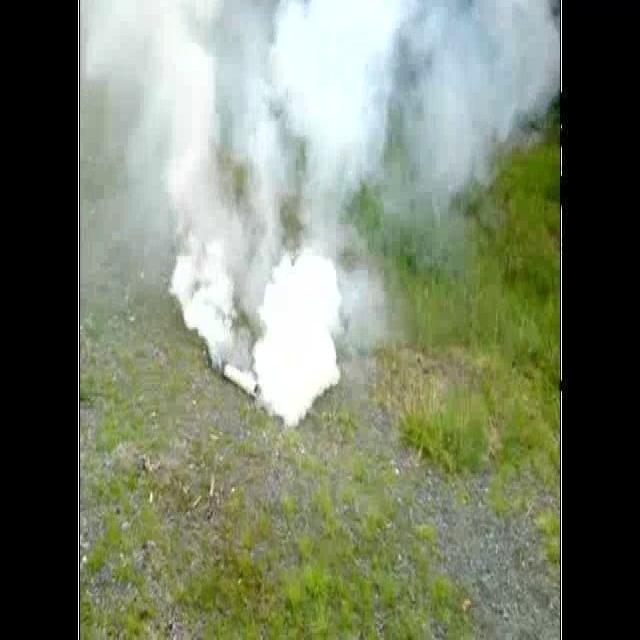Smoke: (253, 0, 561, 428), (80, 0, 290, 366)
